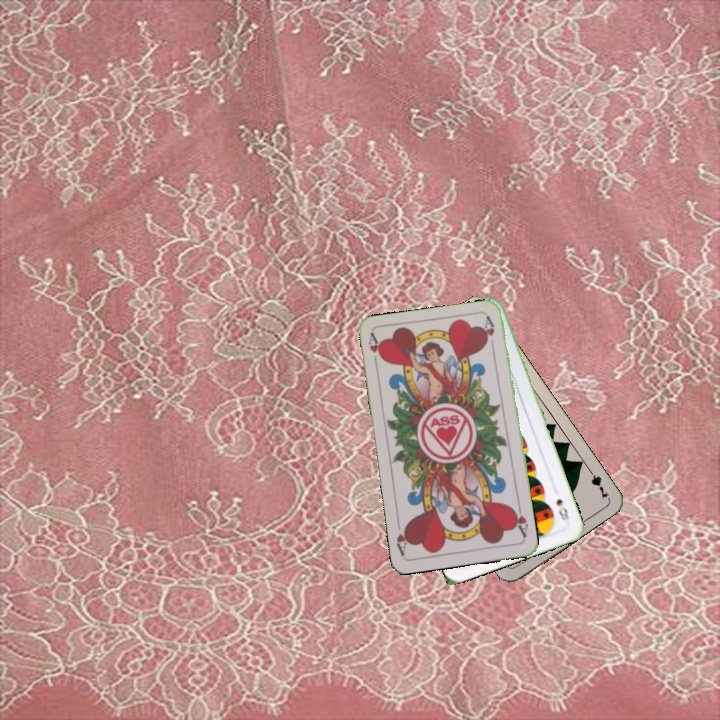G7: (583, 464, 611, 501)
HA: (508, 500, 531, 540), (364, 330, 385, 371)
S8: (552, 494, 571, 523)
